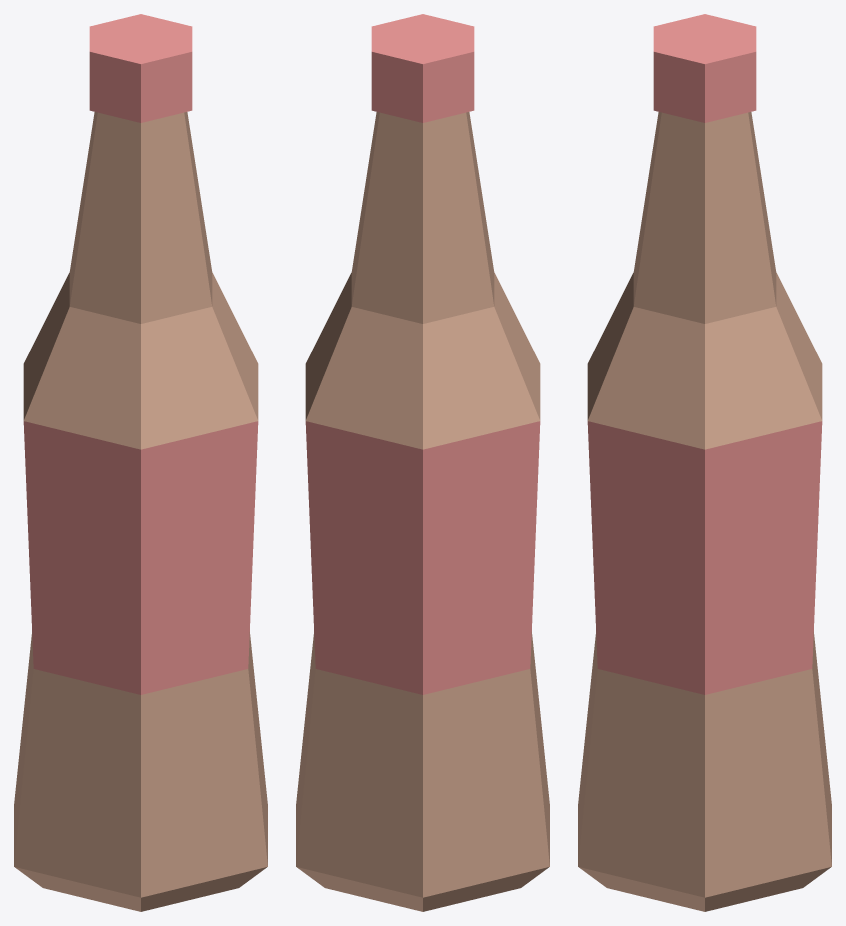
Rendered from sodaBottle.glb.
3 views of the same model, side by side, from view 1: azimuth 30°, elevation 25°; view 2: azimuth 150°, elevation 25°; view 3: azimuth 270°, elevation 25° (orthographic).
Parts seen in each view (by area): view 1: sodaBottle; view 2: sodaBottle; view 3: sodaBottle.
Part boxes in pixels (x1,y1,x2,y2): sodaBottle: [14, 14, 267, 911]; sodaBottle: [296, 14, 549, 911]; sodaBottle: [578, 14, 831, 911].
Size of the model in its own units: 0.1805 by 0.5604 by 0.1563.
